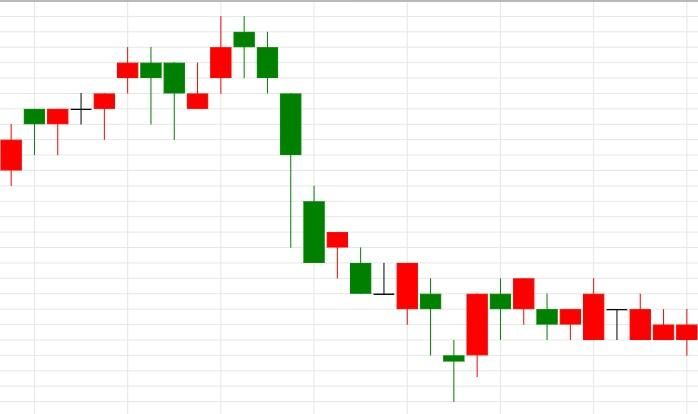morning_star_rise: (234, 16, 488, 402)
three_black_crows_fall: (187, 16, 301, 248)
